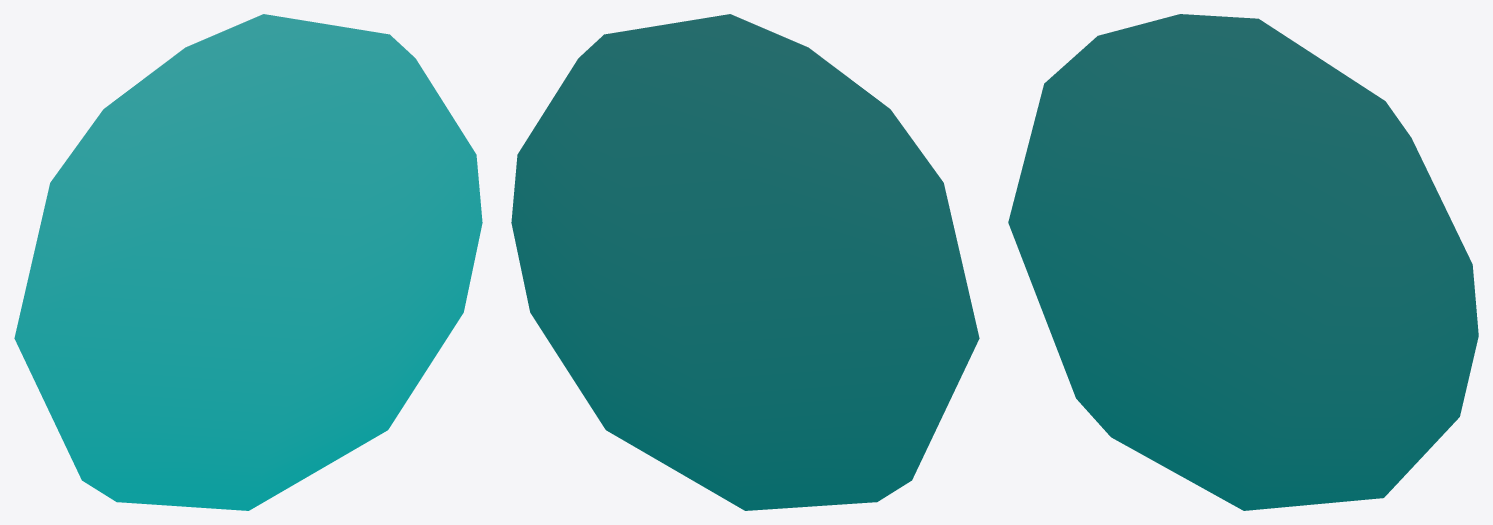
File: Boxwood_wfypfa3ha_Low_wfypfa3ha_VarD_LOD3.fbx
3 renders of one model, left to right at view 1: azimuth 30°, elevation 25°; view 2: azimuth 150°, elevation 25°; view 3: azimuth 330°, elevation 25°, orthographic.
Parts seen in each view (by area): view 1: _csgu_VarD_LOD5; view 2: _csgu_VarD_LOD5; view 3: _csgu_VarD_LOD5.
Boxes of the visible parts, bbox=[...] form: _csgu_VarD_LOD5: bbox=[14, 14, 482, 510]; _csgu_VarD_LOD5: bbox=[511, 14, 979, 510]; _csgu_VarD_LOD5: bbox=[1008, 14, 1478, 510].
Bounding box in the file's own units: 78.5 × 79.05 × 0.
